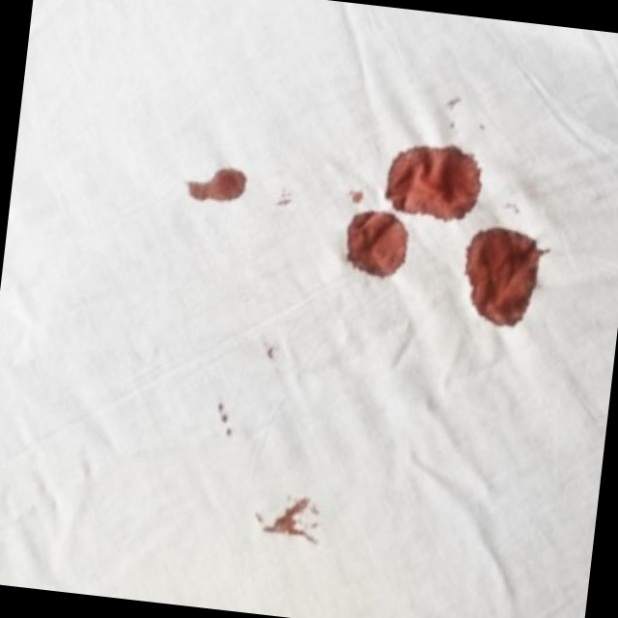blood: (453, 222, 548, 332), (377, 135, 489, 224), (340, 202, 412, 284), (178, 157, 254, 219)
